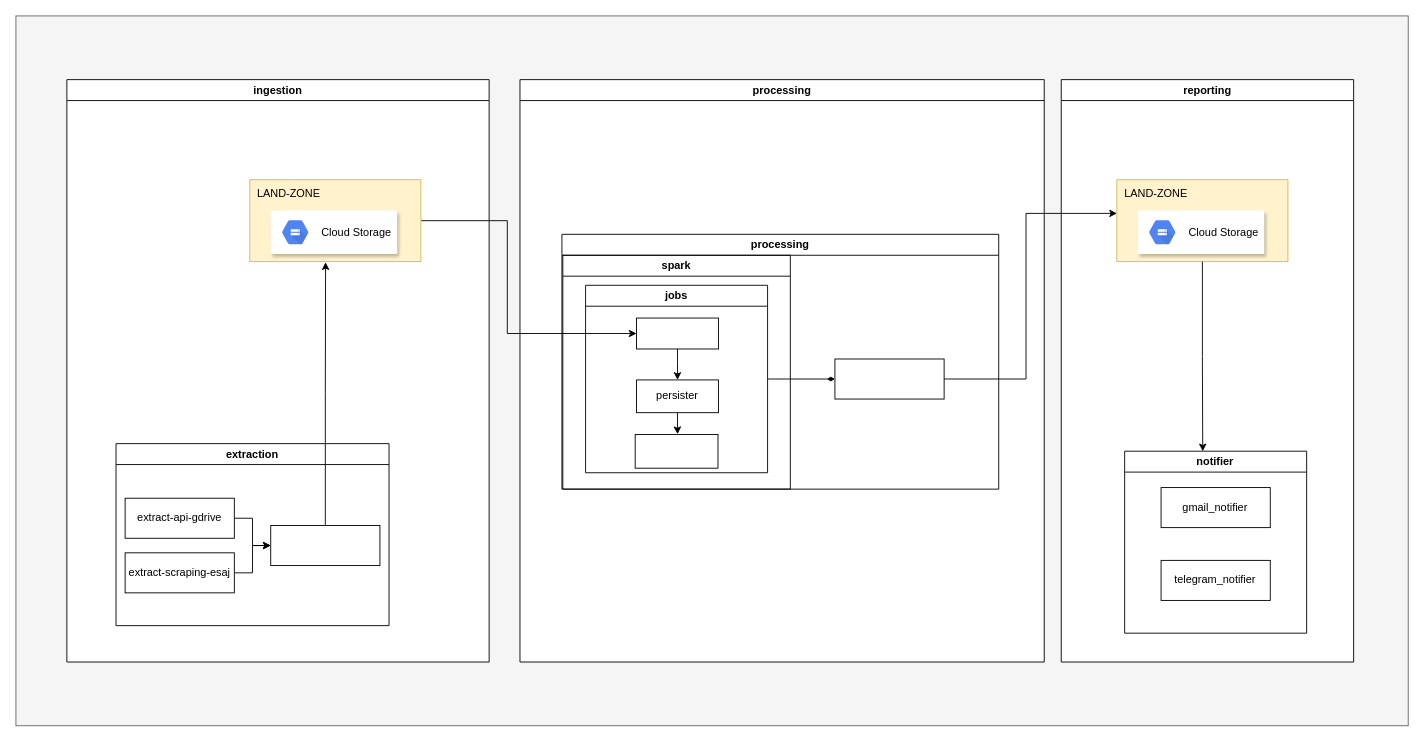
The diagram is 1424 pixels wide and 742 high, and some of its shapes have lost their labels. The centre of each missing label's shape, as x and y in pixels:
"land-zone-ingestor" goes at (325,545).
"loader" goes at (676,451).
"reader" goes at (677,333).
"spark_processing" goes at (889,378).
